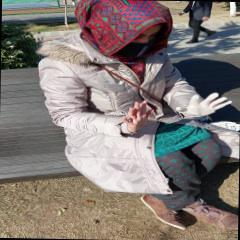gloved: (176, 90, 232, 118)
not-gloved: (125, 99, 154, 133)
